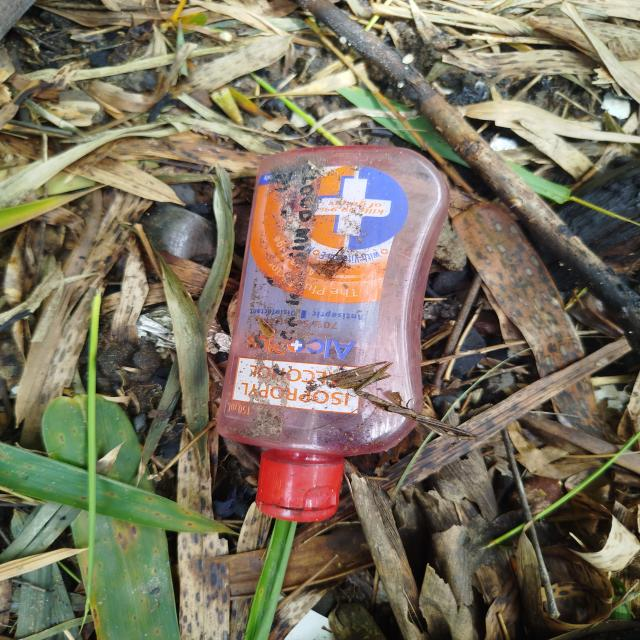plastic: (209, 131, 465, 535)
